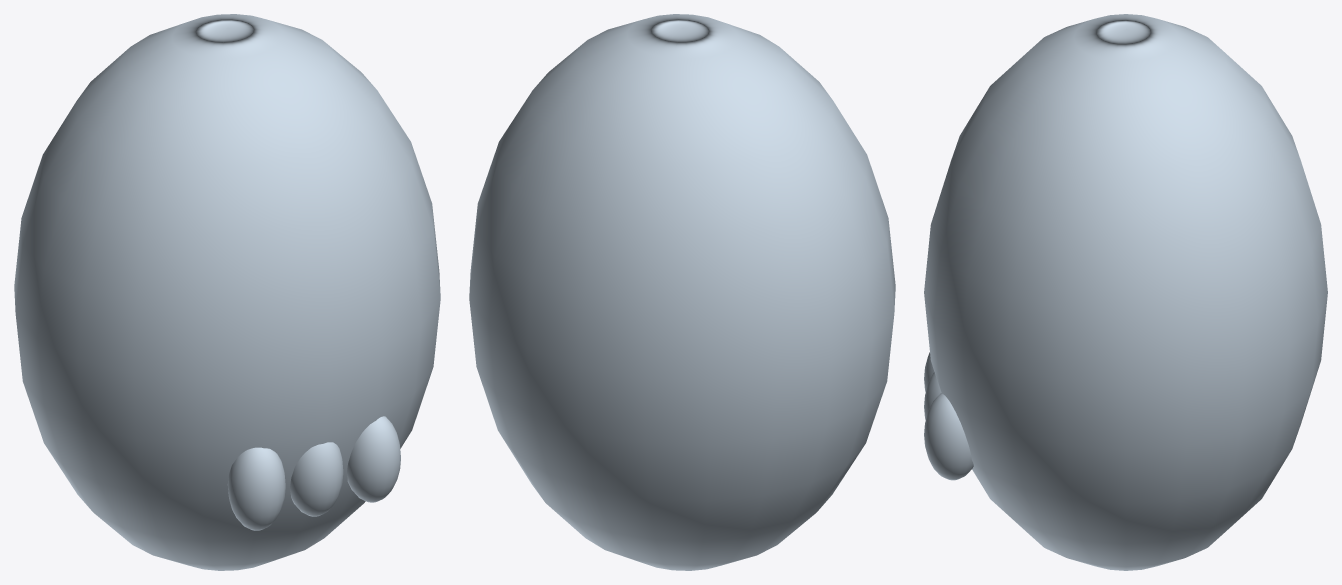
The model's file is Xiangling_GuobaState_Overall_GuobaPaw1.fbx.
3 renders of one model, left to right at view 1: azimuth 30°, elevation 25°; view 2: azimuth 150°, elevation 25°; view 3: azimuth 270°, elevation 25°, orthographic.
Visible parts, largest first — view 1: PART_GuobaRoundPaw1, PART_GuobaPawCreamClaw10, PART_GuobaPawCreamClaw12, PART_GuobaPawCreamClaw11; view 2: PART_GuobaRoundPaw1; view 3: PART_GuobaRoundPaw1, PART_GuobaPawCreamClaw12.
Boxes of the visible parts, box(x1,y1,x2,y2) form: PART_GuobaRoundPaw1: box(14, 14, 440, 570); PART_GuobaPawCreamClaw10: box(227, 447, 285, 530); PART_GuobaPawCreamClaw12: box(347, 416, 400, 502); PART_GuobaPawCreamClaw11: box(290, 442, 343, 516); PART_GuobaRoundPaw1: box(469, 14, 895, 570); PART_GuobaRoundPaw1: box(924, 14, 1327, 570); PART_GuobaPawCreamClaw12: box(924, 393, 973, 480).
Size of the model in its own units: 27 by 36 by 25.
